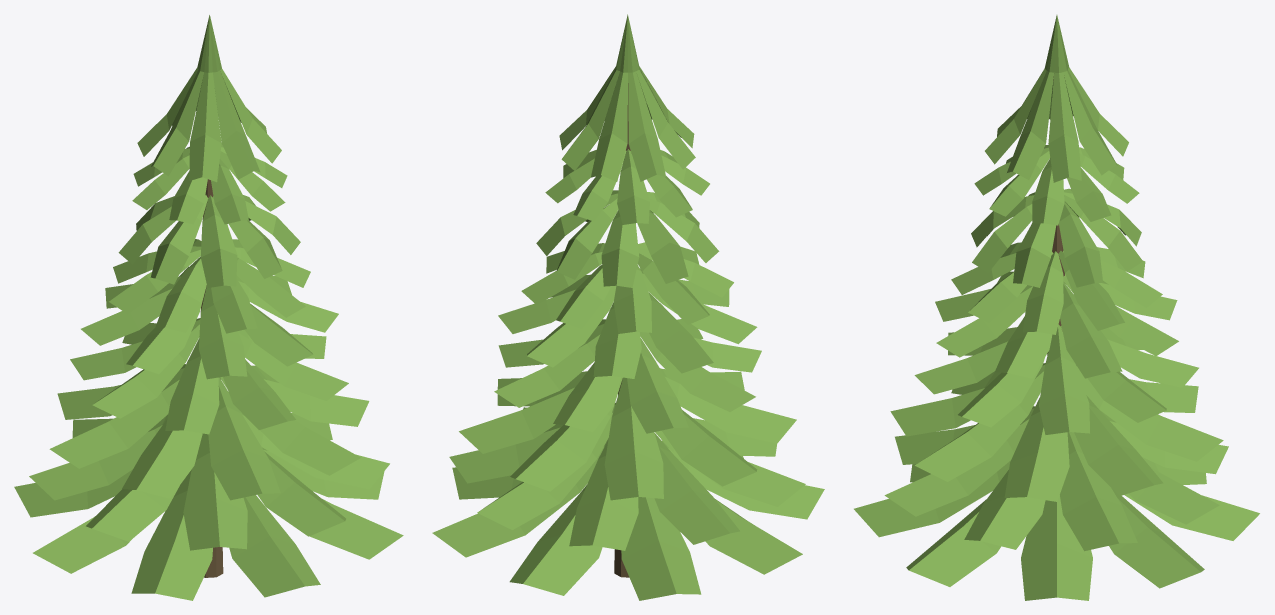
The model's file is Fir_Tree.glb.
3 views of the same model, side by side, from view 1: azimuth 30°, elevation 25°; view 2: azimuth 150°, elevation 25°; view 3: azimuth 270°, elevation 25° (orthographic).
Parts seen in each view (by area): view 1: Fir-tree; view 2: Fir-tree; view 3: Fir-tree.
Boxes of the visible parts, x1,y1,x2,y2 form: Fir-tree: (14, 15, 403, 600); Fir-tree: (432, 14, 824, 600); Fir-tree: (854, 15, 1259, 600).
Size of the model in its own units: 3.77 by 5.71 by 3.77.
